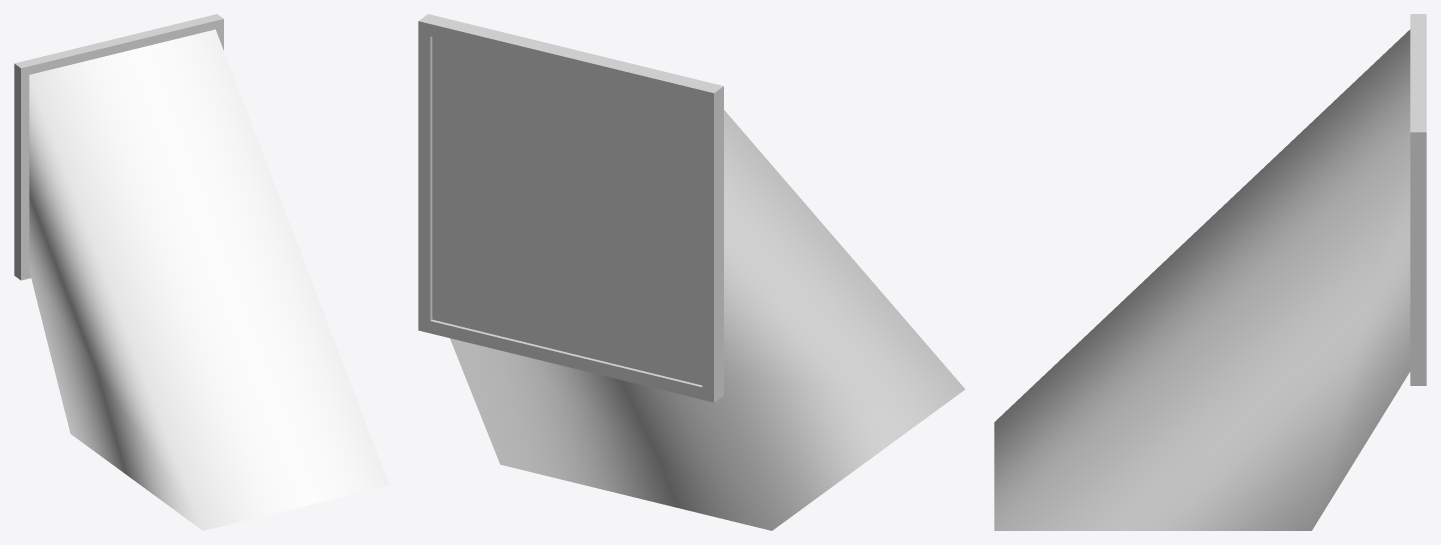
File: Windows.fbx
3 renders of one model, left to right at view 1: azimuth 30°, elevation 25°; view 2: azimuth 150°, elevation 25°; view 3: azimuth 270°, elevation 25°, orthographic. The views are drawn at different scales.
Parts seen in each view (by area): view 1: Light, Frames; view 2: Light, Windows.001, Frames; view 3: Light, Frames.
Part boxes in pixels (x1,y1,x2,y2): Light: (29, 29, 389, 530); Frames: (14, 14, 223, 280); Light: (450, 110, 965, 530); Windows.001: (432, 37, 702, 385); Frames: (418, 14, 723, 402); Light: (994, 29, 1410, 530); Frames: (1410, 14, 1426, 385).
Bounding box in the file's own units: 200 × 318 × 309.
2 materials, 1 textured.
